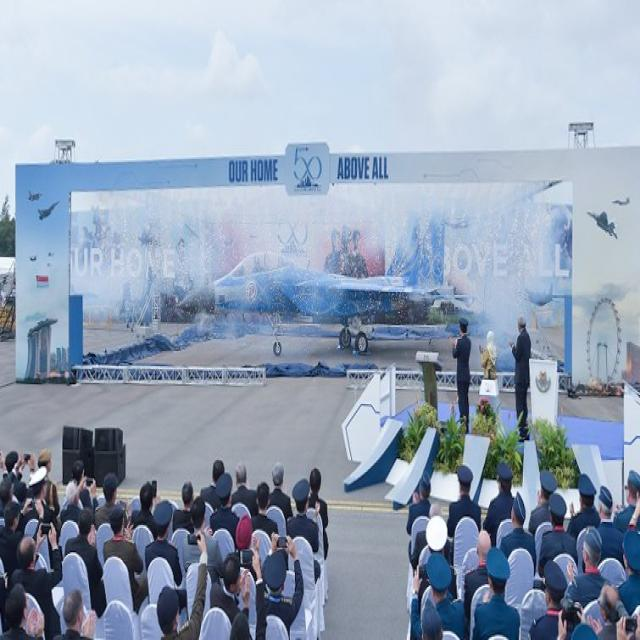MIL_Plane: (175, 200, 474, 354)
